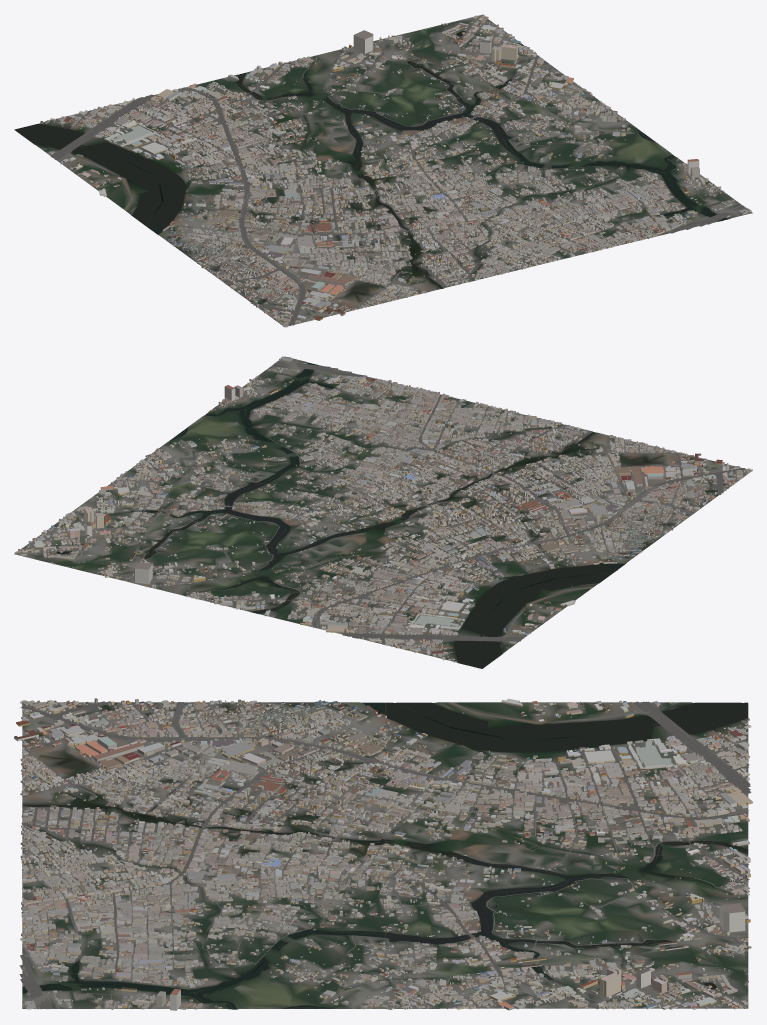
3 renders of one model, top to bottom at view 1: azimuth 30°, elevation 25°; view 2: azimuth 150°, elevation 25°; view 3: azimuth 270°, elevation 25°, orthographic. The views are drawn at different scales.
Parts seen in each view (by area): view 1: buildings, ground, roads, water; view 2: buildings, ground, roads, water; view 3: buildings, ground, roads, water.
Part boxes in pixels (x1,y1,x2,y2): buildings: (40, 14, 751, 327); ground: (14, 14, 752, 326); roads: (44, 31, 750, 325); water: (14, 31, 728, 288); buildings: (14, 356, 752, 662); ground: (14, 356, 750, 668); roads: (39, 360, 746, 661); water: (56, 362, 625, 668); buildings: (14, 698, 752, 1010); ground: (22, 702, 748, 1009); roads: (19, 701, 751, 1009); water: (22, 702, 747, 1009).
Bounding box in the file's own units: 2834 × 88.4 × 2851.
